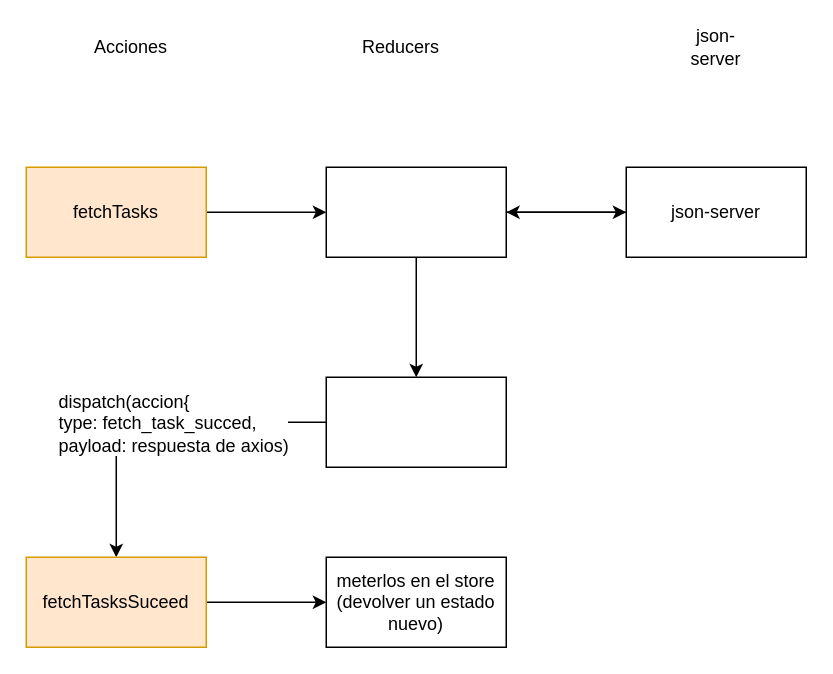
Some shapes in this 833 by 674 pixel diagram are drawn without their labels. Here are the shapes that lost their labels. From the top down, the centre of each, then its label:
At (415,211): "axios.get()".
At (415,421): "meter esos elementos en store".
